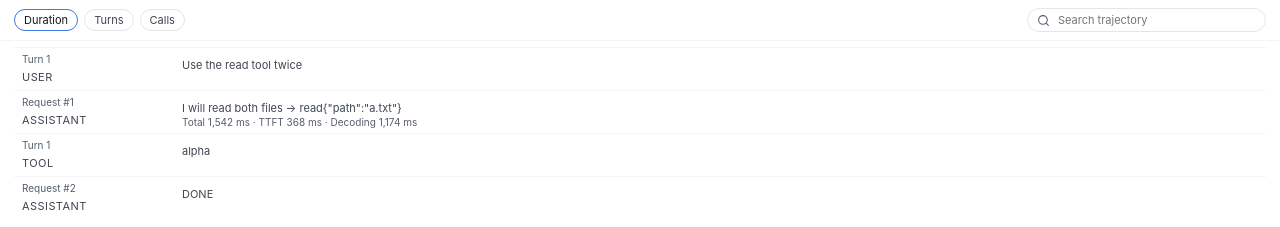
it: TrajectoryPane › hides timing lines when duration is off
The image size is (1280, 227).
Step 1. Click the button with aria-label "Use actual duration" → (46, 20), box 14,9 -> 78,31
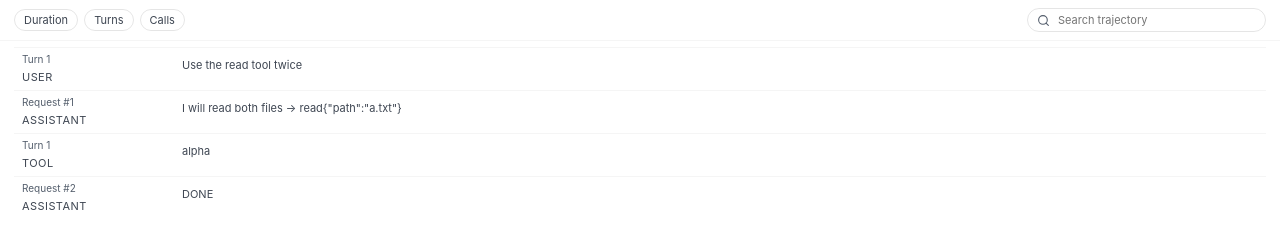
Expected: the text "Total 1,542 ms" is gone
